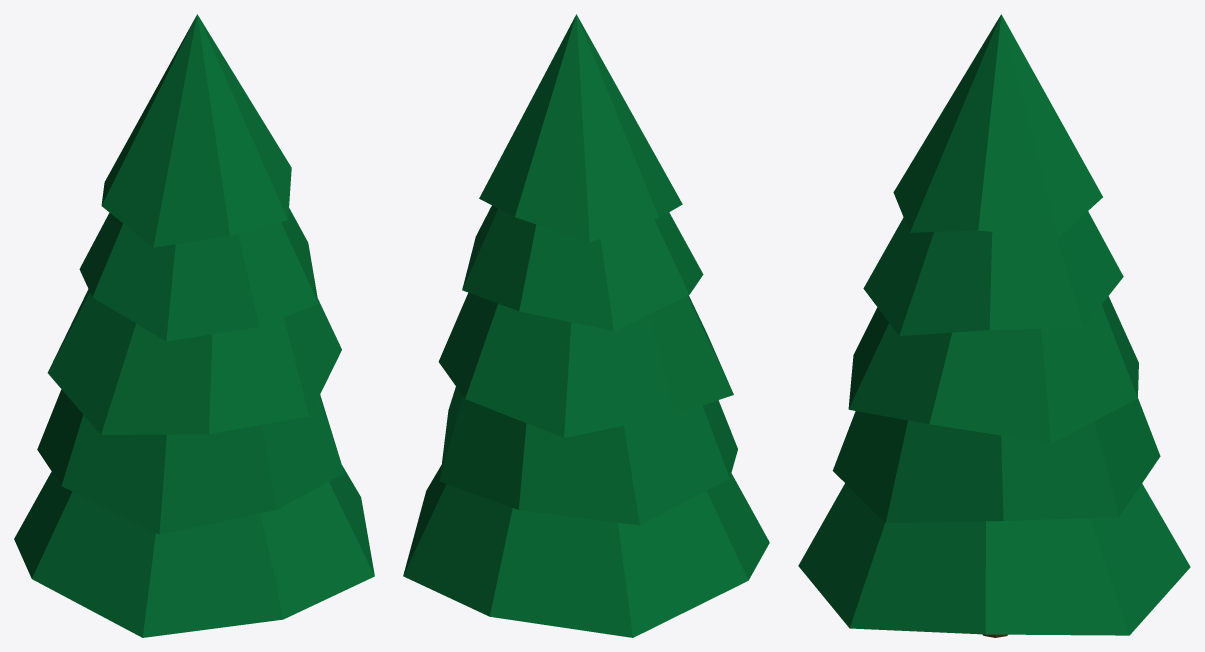
The model's file is pineTree05.fbx.
The picture shows the model from 3 angles, left to right: view 1: azimuth 30°, elevation 25°; view 2: azimuth 150°, elevation 25°; view 3: azimuth 270°, elevation 25°; orthographic projection. The views are drawn at different scales.
Visible parts, largest first — view 1: pineTree05; view 2: pineTree05; view 3: pineTree05.
Part boxes in pixels (bbox=[...]): pineTree05: bbox=[14, 14, 374, 637]; pineTree05: bbox=[403, 14, 769, 637]; pineTree05: bbox=[798, 14, 1190, 637].
Bounding box in the file's own units: 251 × 438 × 251.
